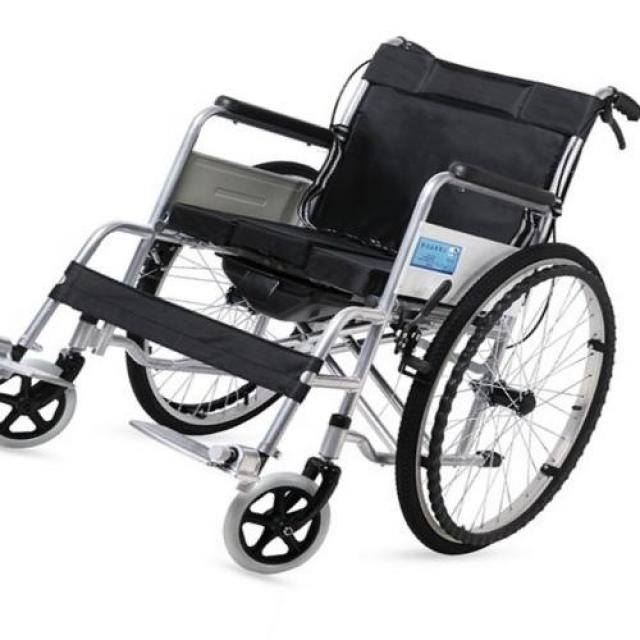wheelchair: (4, 31, 640, 579)
